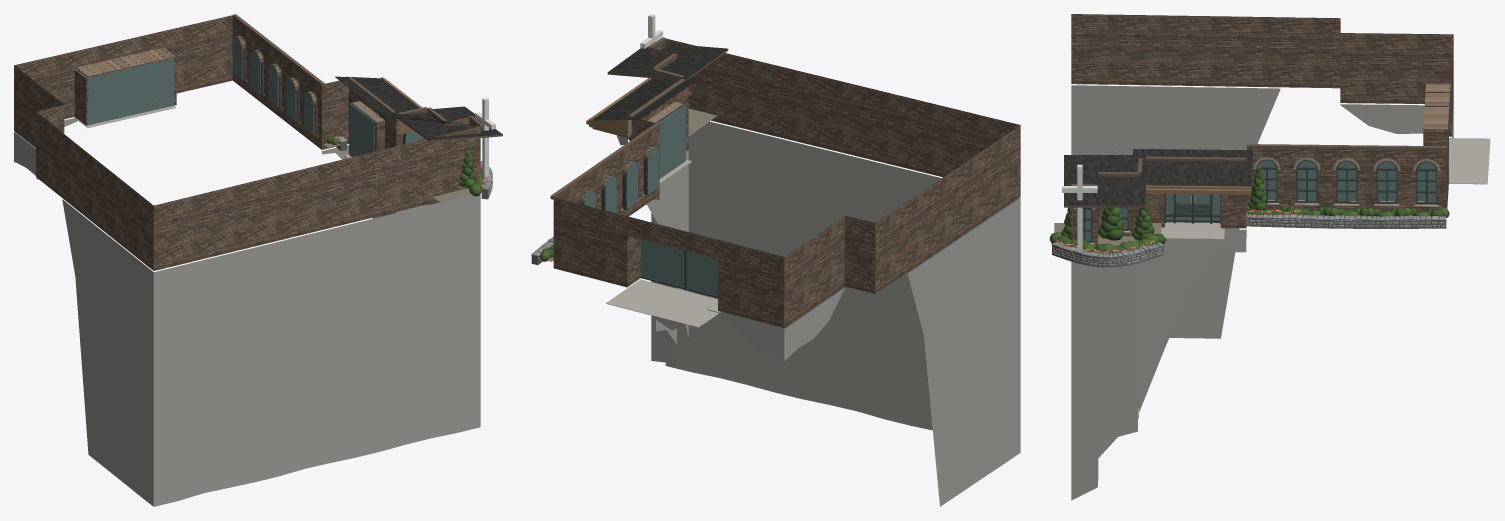
3 views of the same model, side by side, from view 1: azimuth 30°, elevation 25°; view 2: azimuth 150°, elevation 25°; view 3: azimuth 270°, elevation 25° (orthographic). The views are drawn at different scales.
Visible parts, largest first — view 1: foundation__church, church__stone, church__glass, church__roof, church__gutter, church__frame, church__cross; view 2: foundation__church, church__stone, church__glass, church__roof, church__rear_threshold, church__gutter, church__frame, church__copper; view 3: foundation__church, church__stone, church__roof, church__glass, church__frame, church__planting, church__garden_mortar, church__garden_stone, church__gutter, church__planting_mid, church__rear_threshold, church__garden_stone_alt (+4 smaller).
Part boxes in pixels (left/top/right/bottom): foundation__church: left=14, top=118, right=480, bottom=506; church__stone: left=14, top=15, right=480, bottom=270; church__glass: left=87, top=36, right=422, bottom=156; church__roof: left=156, top=75, right=502, bottom=140; church__gutter: left=232, top=14, right=502, bottom=142; church__frame: left=237, top=35, right=404, bottom=151; church__cross: left=475, top=97, right=495, bottom=177; foundation__church: left=647, top=121, right=1020, bottom=506; church__stone: left=553, top=38, right=1020, bottom=327; church__glass: left=584, top=105, right=717, bottom=295; church__roof: left=591, top=46, right=727, bottom=120; church__rear_threshold: left=606, top=279, right=720, bottom=327; church__gutter: left=550, top=37, right=728, bottom=199; church__frame: left=580, top=103, right=717, bottom=297; church__copper: left=586, top=78, right=691, bottom=136; foundation__church: left=1071, top=85, right=1453, bottom=500; church__stone: left=1071, top=14, right=1453, bottom=245; church__roof: left=1064, top=44, right=1272, bottom=205; church__glass: left=1082, top=160, right=1436, bottom=240; church__frame: left=1077, top=130, right=1436, bottom=242; church__planting: left=1057, top=165, right=1443, bottom=251; church__garden_mortar: left=1052, top=214, right=1446, bottom=267; church__garden_stone: left=1051, top=213, right=1445, bottom=265; church__gutter: left=1064, top=144, right=1446, bottom=207; church__planting_mid: left=1049, top=164, right=1449, bottom=254; church__rear_threshold: left=1449, top=138, right=1490, bottom=184; church__garden_stone_alt: left=1055, top=214, right=1444, bottom=265.
Bounding box in the file's own units: 20.13 × 17.77 × 20.53.
22 materials, 4 textured.
